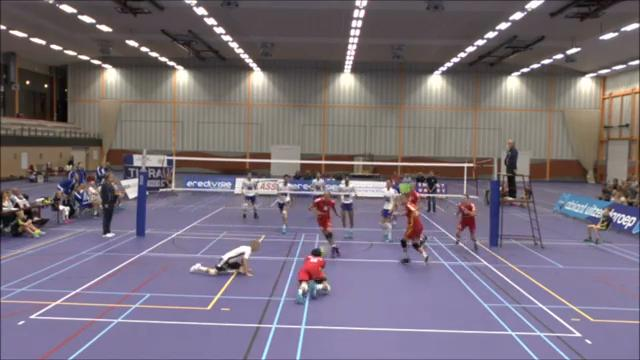Dig: (293, 243, 331, 308)
Player: (190, 240, 259, 275), (400, 193, 428, 263), (309, 191, 339, 256), (456, 194, 477, 250), (339, 176, 356, 238), (381, 180, 397, 241), (277, 175, 290, 233), (242, 173, 257, 218), (390, 173, 401, 225), (311, 172, 325, 198), (408, 183, 419, 206)
ball: (318, 245, 325, 255)
